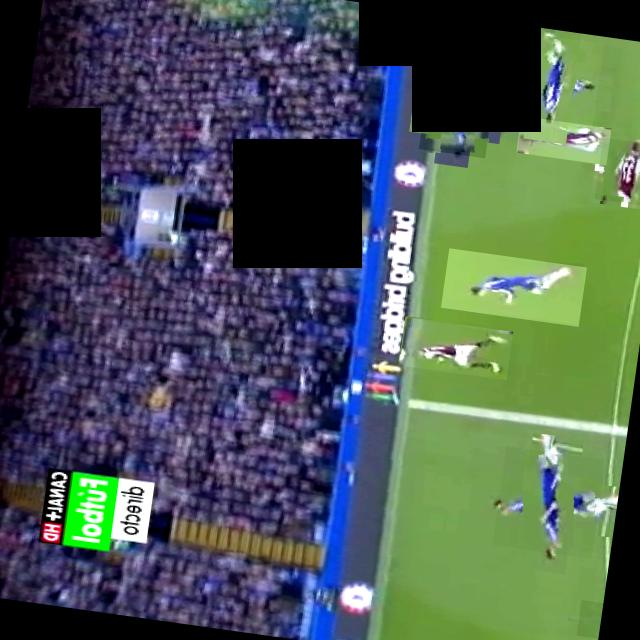ball: (485, 94, 516, 120)
soccer-player: (492, 446, 604, 560), (440, 248, 586, 327), (501, 31, 604, 133), (398, 316, 512, 381), (418, 82, 493, 158), (516, 116, 610, 165), (593, 137, 640, 207), (379, 6, 482, 36), (576, 600, 604, 639)
